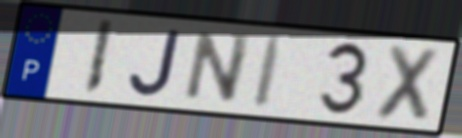3: (313, 39, 374, 120)
I: (249, 33, 289, 113), (80, 17, 117, 98)
J: (127, 27, 184, 99)
N: (179, 29, 256, 105)
X: (370, 41, 445, 127)
